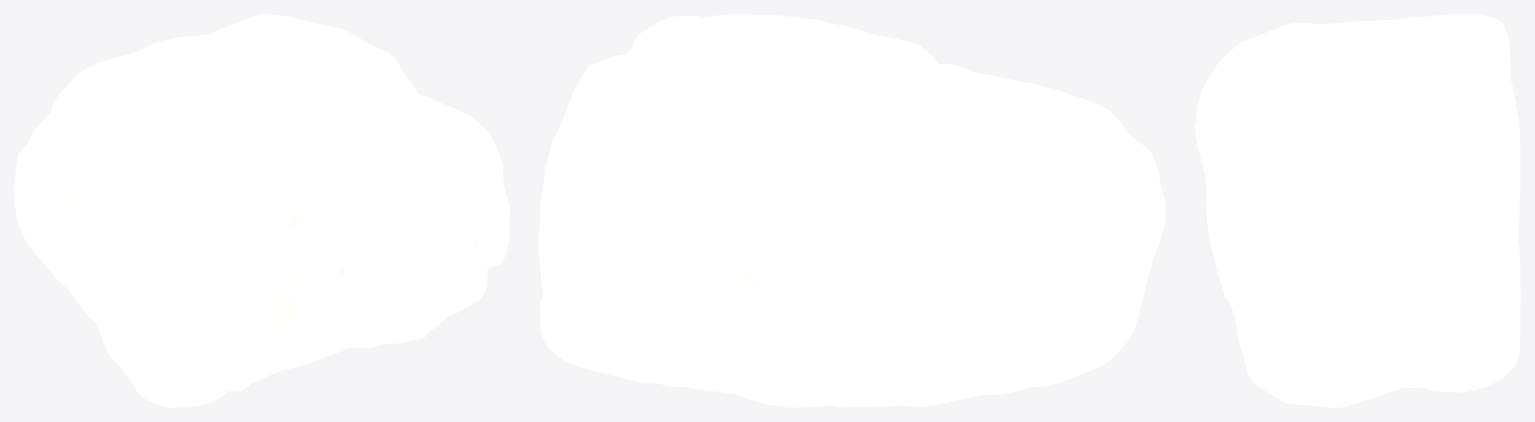
File: surface_rock.glb
3 renders of one model, left to right at view 1: azimuth 30°, elevation 25°; view 2: azimuth 150°, elevation 25°; view 3: azimuth 270°, elevation 25°, orthographic. The views are drawn at different scales.
Parts seen in each view (by area): view 1: Mesh_0; view 2: Mesh_0; view 3: Mesh_0.
Part boxes in pixels (x1=…): Mesh_0: x1=14, y1=14, x2=509, y2=407; Mesh_0: x1=538, y1=14, x2=1165, y2=407; Mesh_0: x1=1194, y1=14, x2=1520, y2=407.
Bounding box in the file's own units: 1.89 × 1.23 × 1.31.
Materials: 1 (1 with a texture image).
